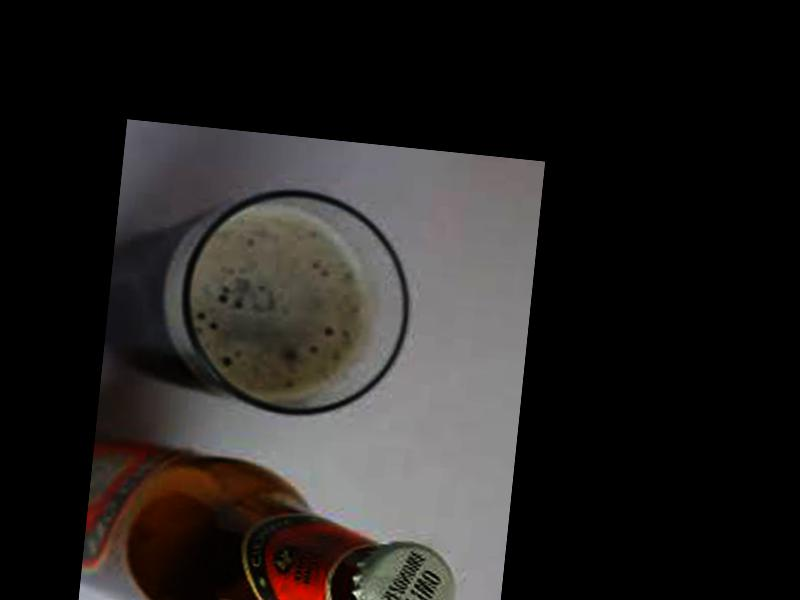Beer: (76, 434, 467, 600)
